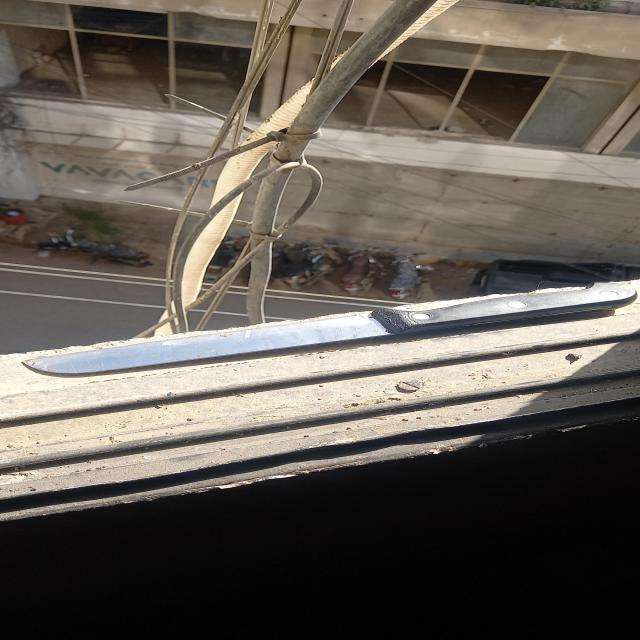weapon: (21, 281, 636, 375)
